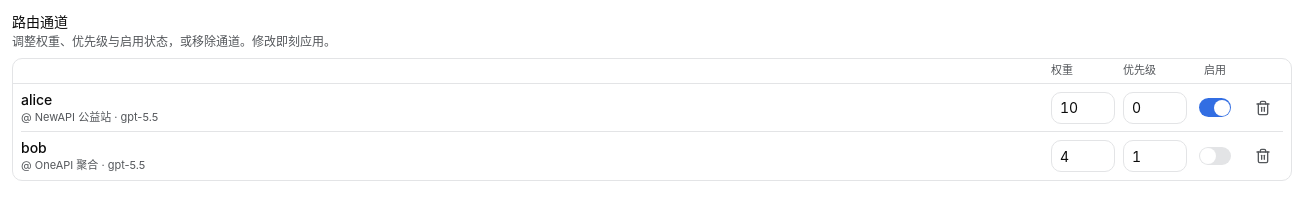
Test: RouteChannelEditor › reverts a non-integer draft instead of committing it
Step 1. Replace the text in the number field named "权重" in the row of "alice" with "1.5" → (1083, 108), box [1051,92,1115,124]
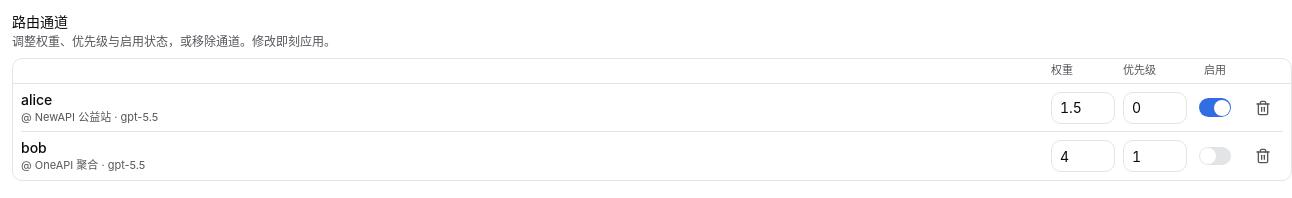
Step 2. Leave the number field named "权重" in the row of "alice", box [1051,92,1115,124]
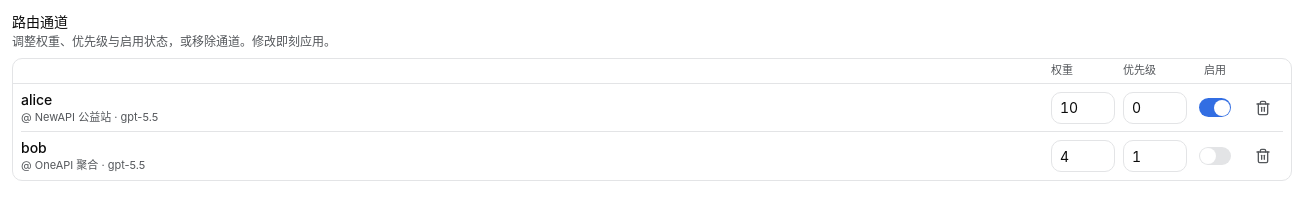
expect the number field named "权重" in the row of "alice" holds "10": met, box [1051,92,1115,124]
